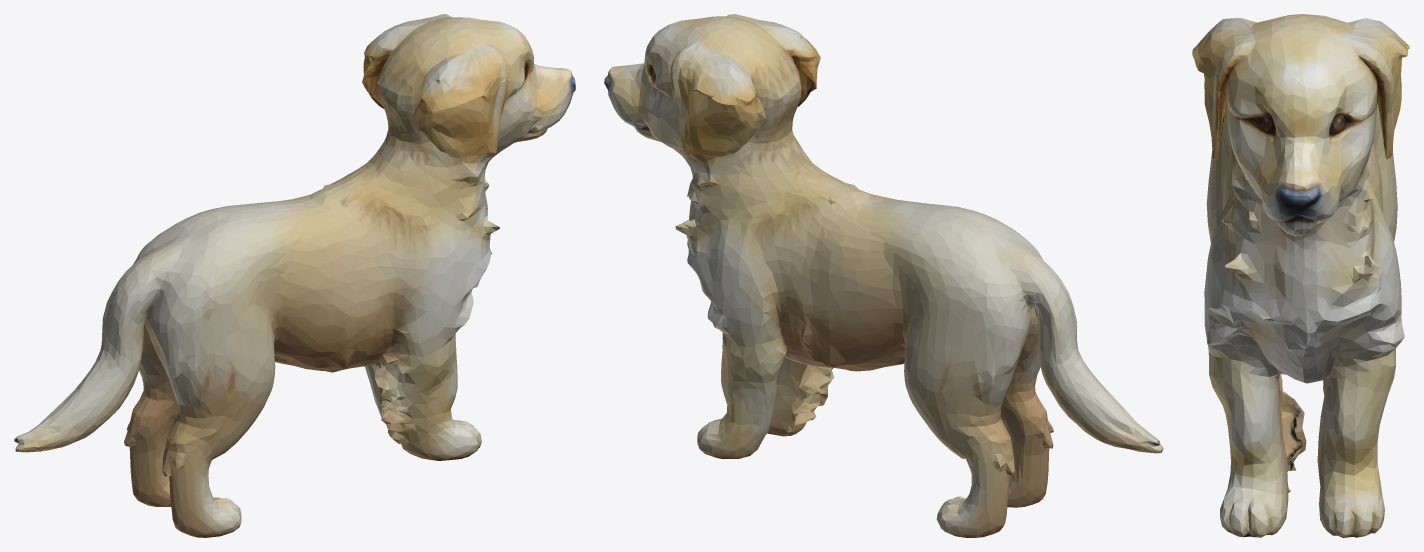
Rendered from trellis_dog.glb.
3 views of the same model, side by side, from view 1: azimuth 30°, elevation 25°; view 2: azimuth 150°, elevation 25°; view 3: azimuth 270°, elevation 25° (orthographic). The views are drawn at different scales.
Visible parts, largest first — view 1: world; view 2: world; view 3: world.
Boxes of the visible parts, bbox=[...] form: world: bbox=[14, 14, 575, 537]; world: bbox=[604, 14, 1163, 537]; world: bbox=[1192, 14, 1409, 537].
Size of the model in its own units: 1 by 0.7352 by 0.2658.
1 material, 1 textured.
